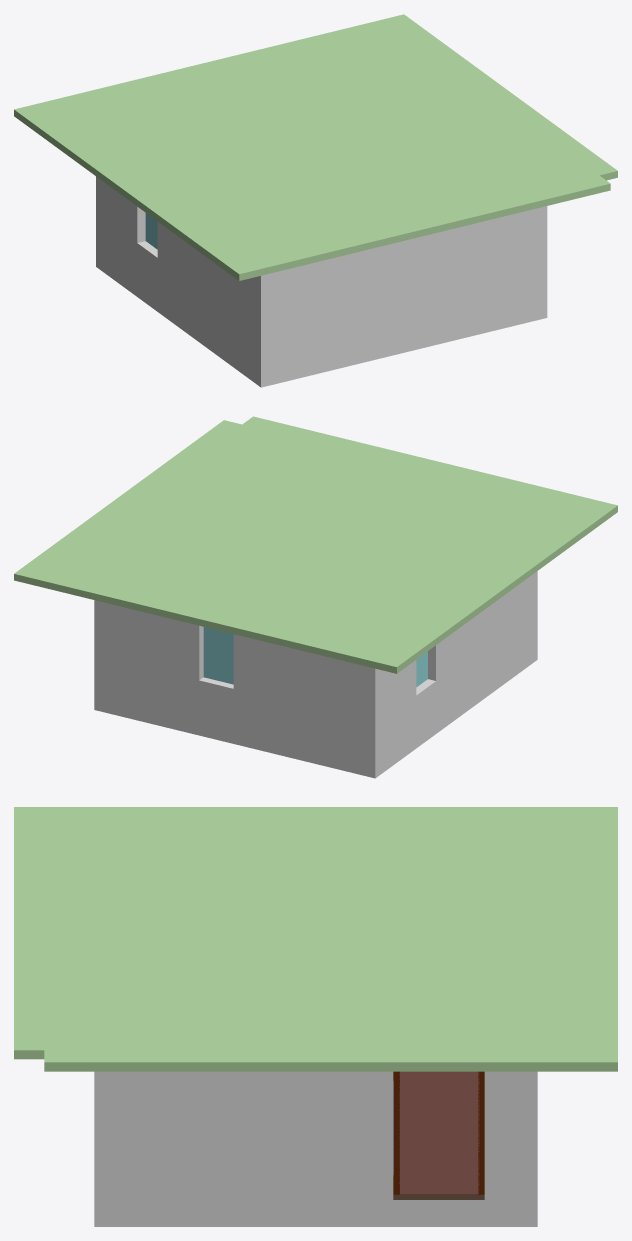
File: Bedroom.fbx
3 renders of one model, top to bottom at view 1: azimuth 30°, elevation 25°; view 2: azimuth 150°, elevation 25°; view 3: azimuth 270°, elevation 25°, orthographic. The views are drawn at different scales.
Parts seen in each view (by area): view 1: Ceiling, Room; view 2: Ceiling, Room, WindowPane 02; view 3: Ceiling, Room, Door.
Boxes of the visible parts, left/top/right/bottom form: Ceiling: left=14, top=14, right=617, bottom=280; Room: left=96, top=176, right=547, bottom=387; Ceiling: left=14, top=416, right=617, bottom=673; Room: left=94, top=571, right=537, bottom=778; WindowPane 02: left=203, top=627, right=233, bottom=684; Ceiling: left=14, top=807, right=617, bottom=1071; Room: left=94, top=1071, right=537, bottom=1226; Door: left=393, top=1071, right=484, bottom=1194.
Bounding box in the file's own units: 818 × 296 × 818.
